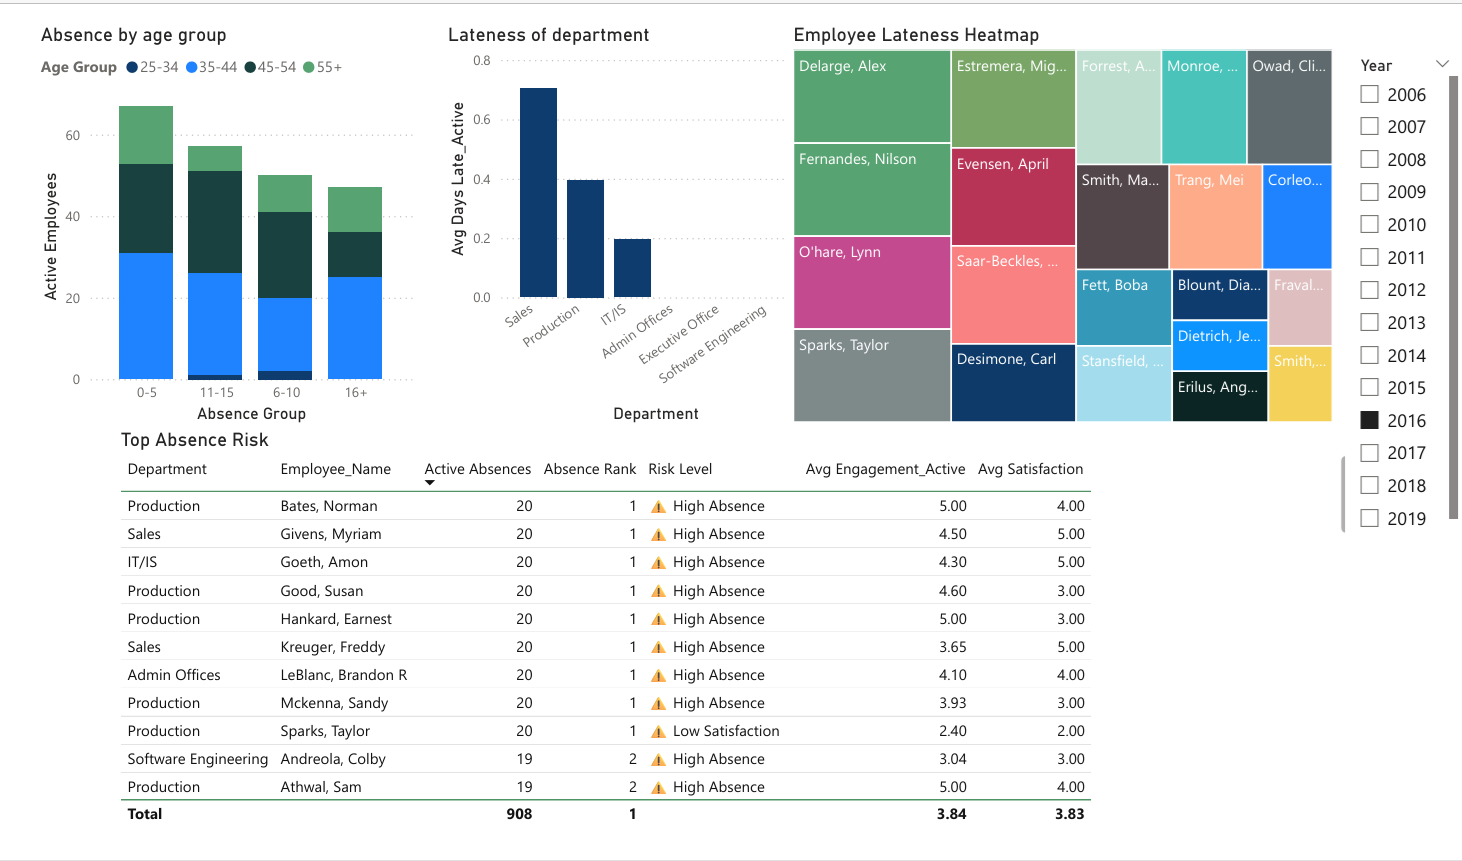

The dashboard page shown, as its layout file describes it:
{"tool":"powerbi","page":{"name":"Attendance & Productivity","canvas":[1280,720],"ordinal":5},"visuals":[{"type":"columnChart","title":"Absence by age group","fields":{"Category":["HRDataset_v14.Absence Group"],"Y":["KPI.Active Employees"],"Series":["HRDataset_v14.Age Group"]},"box":[9.6,0,340.3,359.5],"z":0},{"type":"clusteredColumnChart","title":"Lateness of department","fields":{"Category":["HRDataset_v14.Department"],"Y":["KPI.Avg Days Late"]},"box":[371.9,0,332.1,359.5],"z":1000},{"type":"treemap","title":"Employee Lateness Heatmap","fields":{"Details":["HRDataset_v14.Employee_Name"],"Values":["KPI.Avg Days Late"]},"box":[679.2,0,488.5,359.5],"z":2000},{"type":"tableEx","title":"Top Absence Risk","fields":{"Values":["HRDataset_v14.Department","HRDataset_v14.Employee_Name","KPI.14Active Absences","KPI.Absence Rank","HRDataset_v14.Risk Level","KPI.4Avg Engagement_Active","KPI.3Avg Satisfaction"]},"box":[81,359.5,1103.3,360.9],"z":3000},{"type":"slicer","fields":{"Values":["DateTable.Year"]},"box":[1174.6,24.7,105.7,433.6],"z":4000}]}

Visuals, with their boxes on the page's 1280x720 design canvas (x1, y1, x2, y2). These are canvas units, not pixel positions in the 1462x861 screenshot, which may show the page scaled, cropped or inside an application window:
"Absence by age group" columnChart: {"left": 10, "top": 0, "right": 350, "bottom": 360}
"Lateness of department" clusteredColumnChart: {"left": 372, "top": 0, "right": 704, "bottom": 360}
"Employee Lateness Heatmap" treemap: {"left": 679, "top": 0, "right": 1168, "bottom": 360}
"Top Absence Risk" tableEx: {"left": 81, "top": 360, "right": 1184, "bottom": 720}
slicer - DateTable.Year: {"left": 1175, "top": 25, "right": 1280, "bottom": 458}
